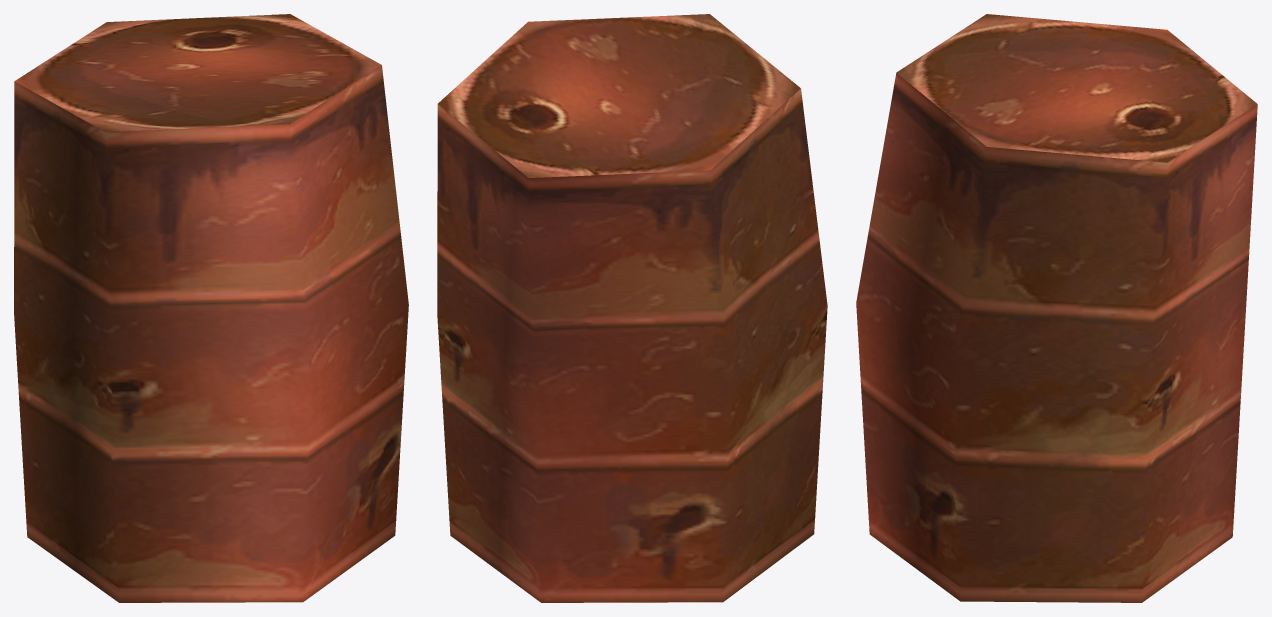
File: oildrum01.obj
3 views of the same model, side by side, from view 1: azimuth 30°, elevation 25°; view 2: azimuth 150°, elevation 25°; view 3: azimuth 270°, elevation 25° (orthographic).
Visible parts, largest first — view 1: oildrum01; view 2: oildrum01; view 3: oildrum01.
Part boxes in pixels (x1,y1,x2,y2): oildrum01: (14,14,408,602); oildrum01: (437,14,827,602); oildrum01: (856,14,1257,602).
Size of the model in its own units: 1.87 by 2.85 by 2.23.
Materials: 1 (1 with a texture image).
